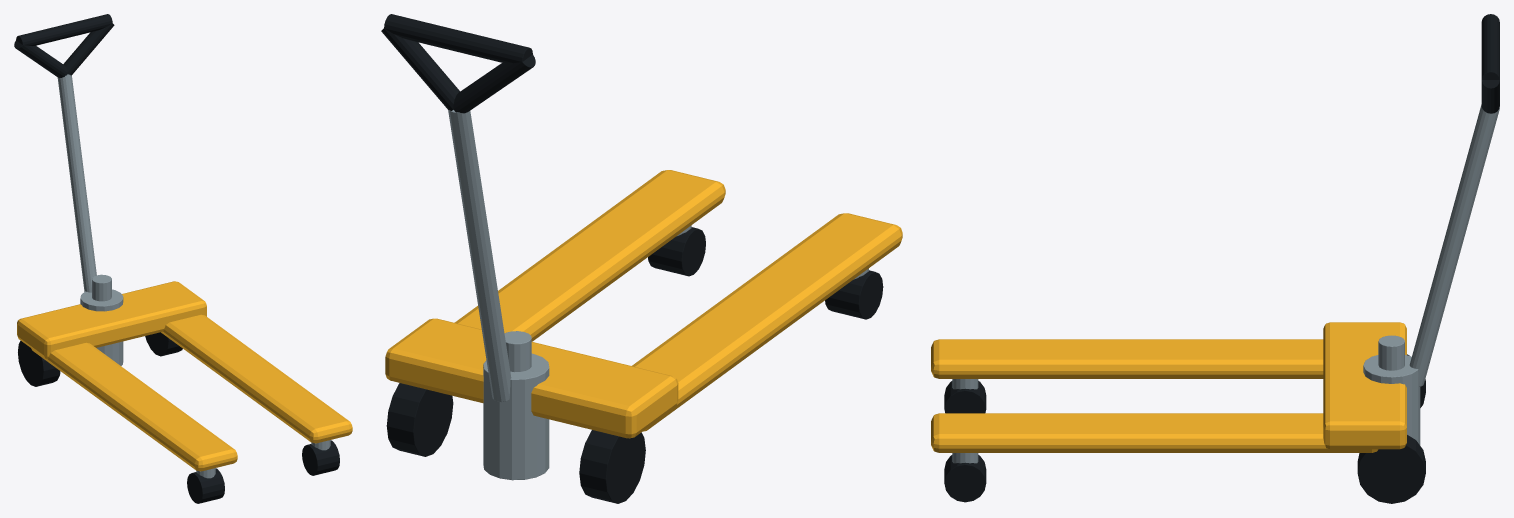
3 views of the same model, side by side, from view 1: azimuth 30°, elevation 25°; view 2: azimuth 150°, elevation 25°; view 3: azimuth 270°, elevation 25° (orthographic). The views are drawn at different scales.
Visible parts, largest first — view 1: FORK, FORK.001, CROSS_Head, HANDLE_Stem, HANDLE_GripTop, REAR_Wheel, PUMP_Body, LOAD_Roller, LOAD_Roller.001, HANDLE_Side.001, HANDLE_Side, REAR_Wheel.001 (+1 smaller); view 2: FORK, CROSS_Head, FORK.001, HANDLE_Stem, PUMP_Body, REAR_Wheel, REAR_Wheel.001, HANDLE_GripTop, HANDLE_Side.001, LOAD_Roller, LOAD_Roller.001, HANDLE_Side (+1 smaller); view 3: FORK.001, FORK, CROSS_Head, HANDLE_Stem, REAR_Wheel.001, PUMP_Body, LOAD_Roller.001, HANDLE_GripTop, LOAD_Roller, PISTON.
Boxes of the visible parts, x1,y1,x2,y2 form: FORK: (31,342,237,471); FORK.001: (161,314,352,443); CROSS_Head: (17,281,206,358); HANDLE_Stem: (57,74,96,292); HANDLE_GripTop: (16,14,112,45); REAR_Wheel: (18,340,60,386); PUMP_Body: (80,289,123,365); LOAD_Roller: (187,468,224,503); LOAD_Roller.001: (302,440,339,475); HANDLE_Side.001: (63,23,114,75); HANDLE_Side: (14,40,67,77); REAR_Wheel.001: (145,332,182,356); FORK: (632,213,902,431); CROSS_Head: (385,318,678,438); FORK.001: (454,170,725,341); HANDLE_Stem: (448,110,511,402); PUMP_Body: (483,353,549,480); REAR_Wheel: (579,430,645,503); REAR_Wheel.001: (386,383,453,456); HANDLE_GripTop: (384,14,532,63); HANDLE_Side.001: (381,28,459,110); LOAD_Roller: (825,270,883,319); LOAD_Roller.001: (648,227,705,276); HANDLE_Side: (453,54,535,113); FORK.001: (931,413,1378,452); FORK: (931,339,1323,378); CROSS_Head: (1323,322,1406,449); HANDLE_Stem: (1409,104,1499,386); REAR_Wheel.001: (1357,435,1425,503); PUMP_Body: (1363,355,1420,445); LOAD_Roller.001: (944,455,986,502); HANDLE_GripTop: (1481,14,1499,79); LOAD_Roller: (944,381,986,413); PISTON: (1378,335,1404,370).
Size of the model in its own units: 0.65 by 1.2 by 1.49.
